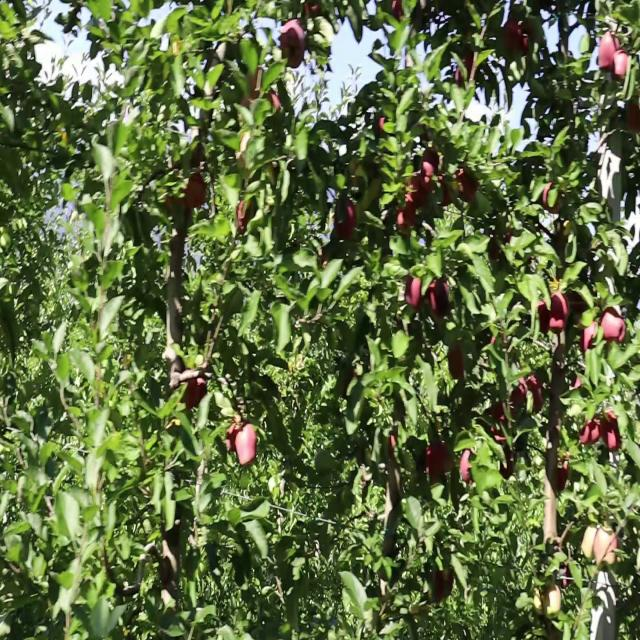apple: (282, 20, 306, 71), (594, 524, 617, 570), (235, 424, 258, 468), (428, 280, 450, 324), (547, 291, 569, 333), (334, 197, 356, 239), (601, 307, 625, 343), (601, 411, 621, 452), (185, 171, 206, 210), (455, 166, 476, 203), (599, 32, 618, 72), (579, 319, 599, 353), (403, 276, 424, 308), (421, 149, 437, 188), (579, 418, 600, 446), (580, 525, 596, 561), (458, 448, 474, 483), (544, 586, 560, 619), (612, 50, 628, 80), (396, 211, 411, 235), (624, 448, 624, 455)
